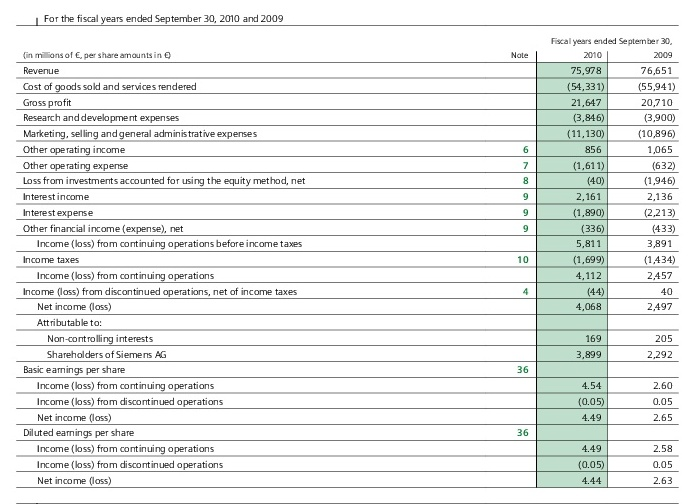table: (0, 0, 691, 504)
